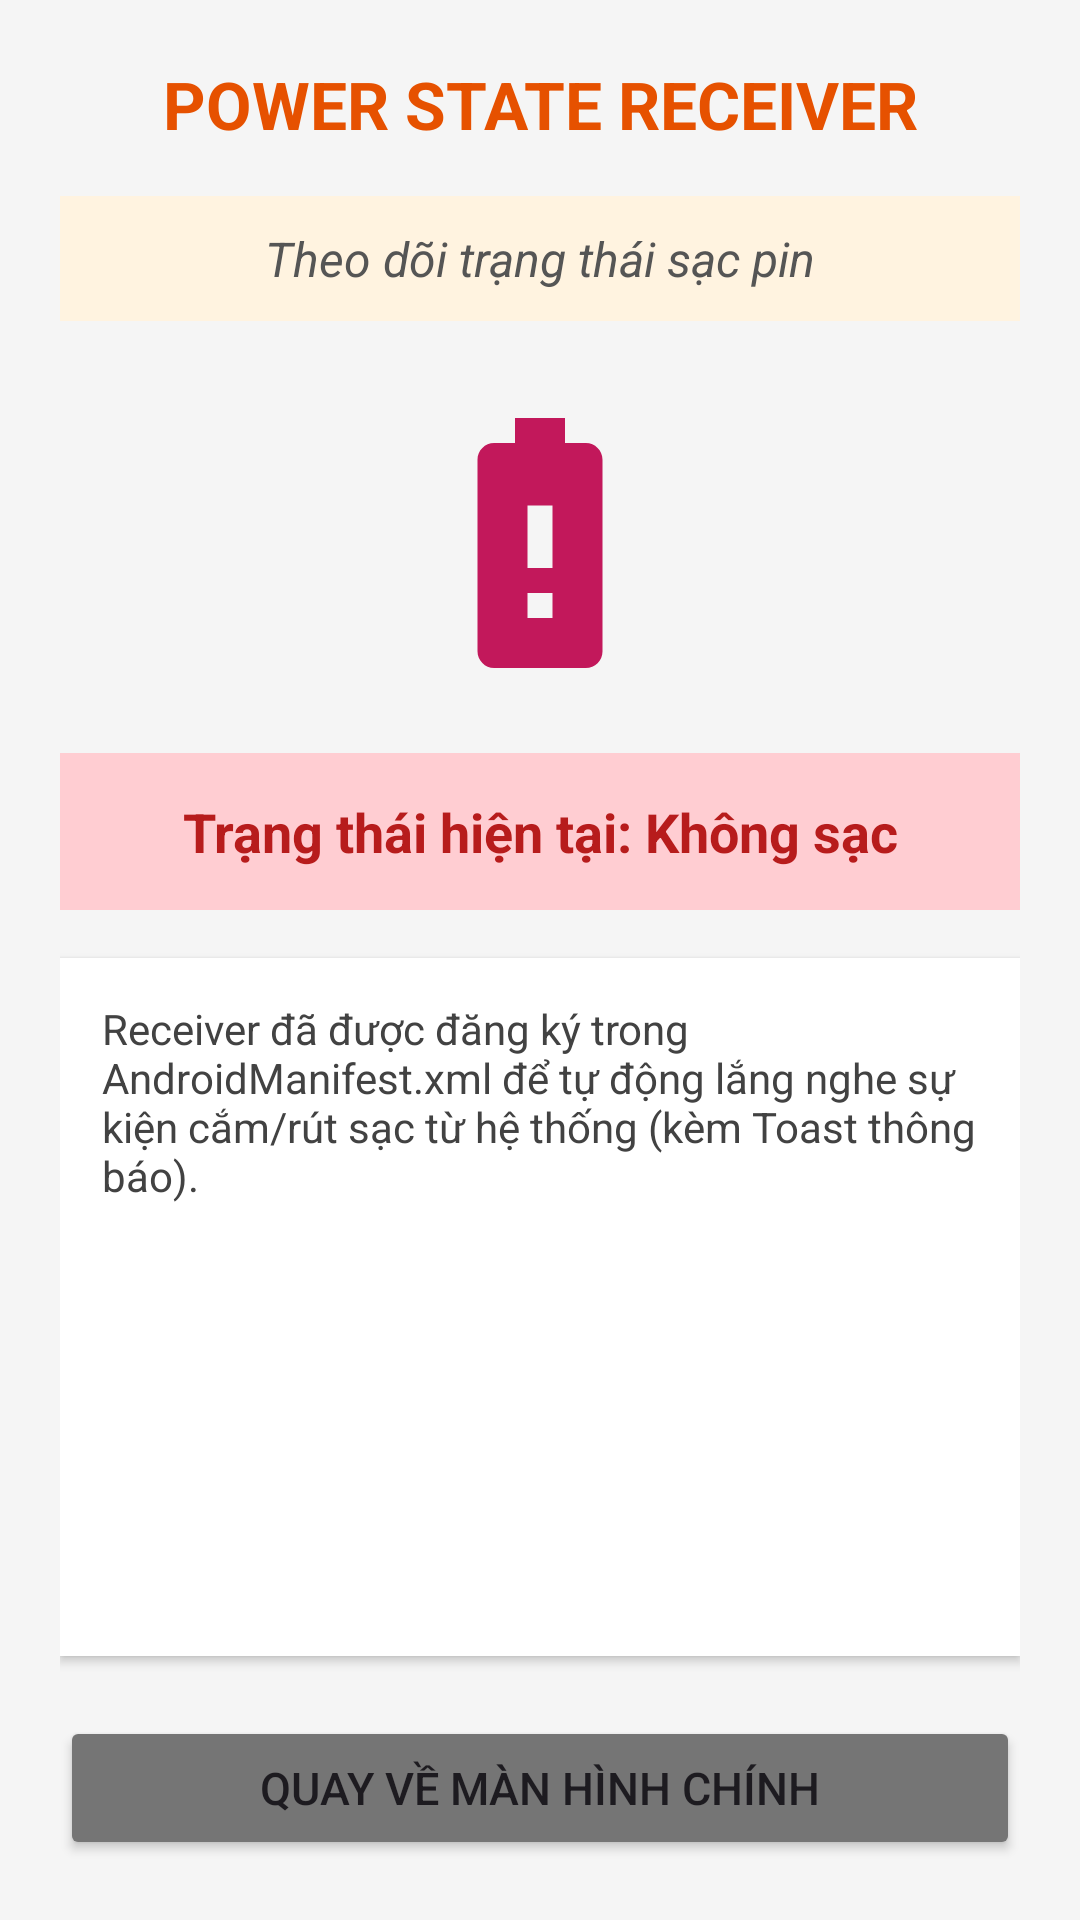

Named icons in this screenshot (1080*1920) and their bounding boxes, (x1, y1, x2, y2):
Battery Status Icon: (477, 418, 603, 668)
